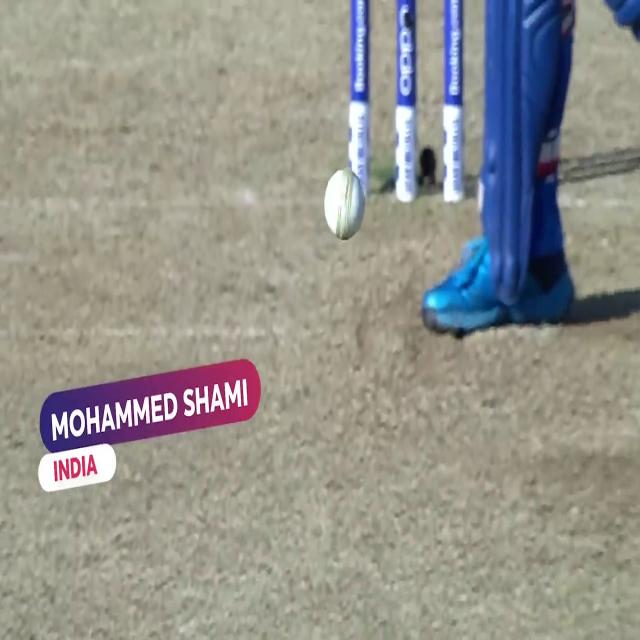ball: (320, 166, 366, 246)
